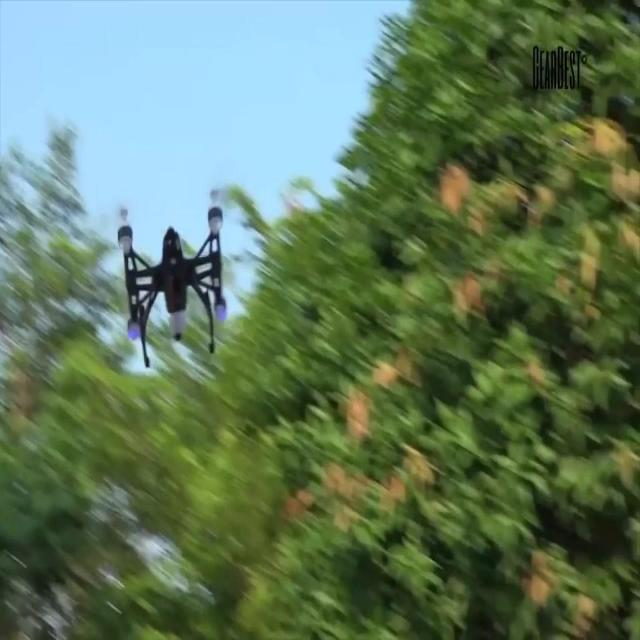UAV: (117, 189, 227, 368)
